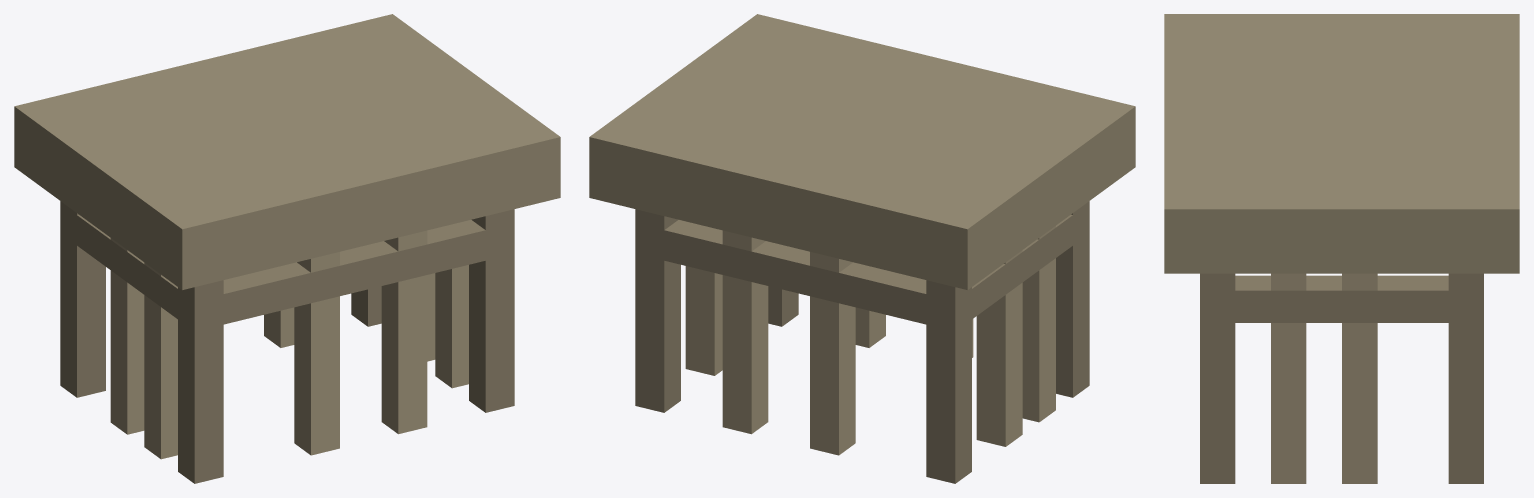
File: gallinero_jaula_03.glb
The picture shows the model from 3 angles, left to right: view 1: azimuth 30°, elevation 25°; view 2: azimuth 150°, elevation 25°; view 3: azimuth 270°, elevation 25°; orthographic projection. The views are drawn at different scales.
Parts seen in each view (by area): view 1: gallinero_jaula_03; view 2: gallinero_jaula_03; view 3: gallinero_jaula_03.
Boxes of the visible parts, bbox=[...] form: gallinero_jaula_03: bbox=[14, 14, 560, 483]; gallinero_jaula_03: bbox=[589, 14, 1135, 483]; gallinero_jaula_03: bbox=[1164, 14, 1519, 483].
Bounding box in the file's own units: 1.3 × 0.9 × 1.
